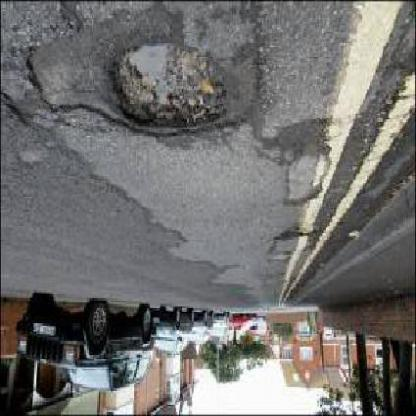pothole: (110, 41, 235, 137)
